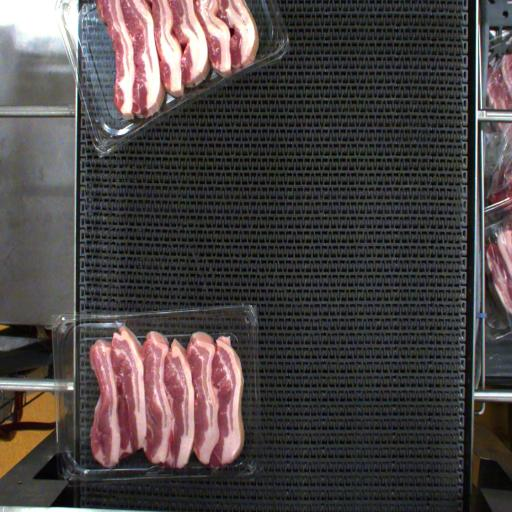packaging-error: (114, 318, 130, 330)
